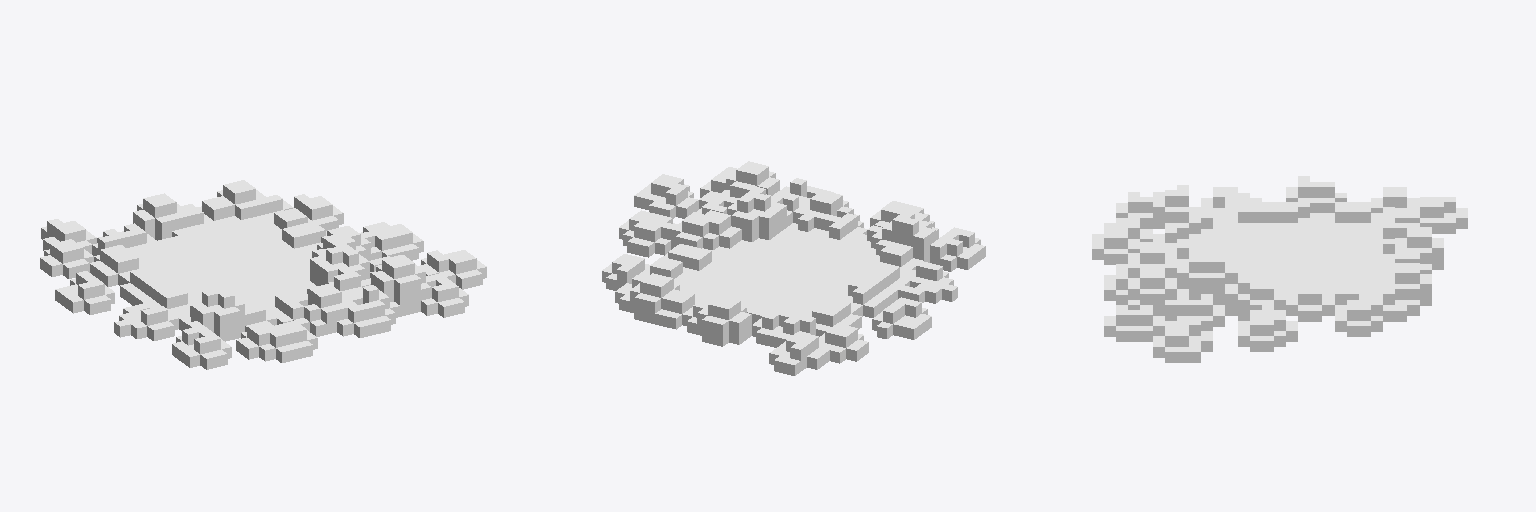
File: Mine-2-Mine.obj
The picture shows the model from 3 angles: view 1: azimuth 30°, elevation 25°; view 2: azimuth 150°, elevation 25°; view 3: azimuth 270°, elevation 25°; orthographic projection.
Parts seen in each view (by area): view 1: Mine; view 2: Mine; view 3: Mine.
Part boxes in pixels (left/top/right/bottom): Mine: left=40, top=180, right=486, bottom=369; Mine: left=602, top=161, right=985, bottom=375; Mine: left=1092, top=176, right=1467, bottom=362.
Bounding box in the file's own units: 3.3 × 0.4 × 3.1.